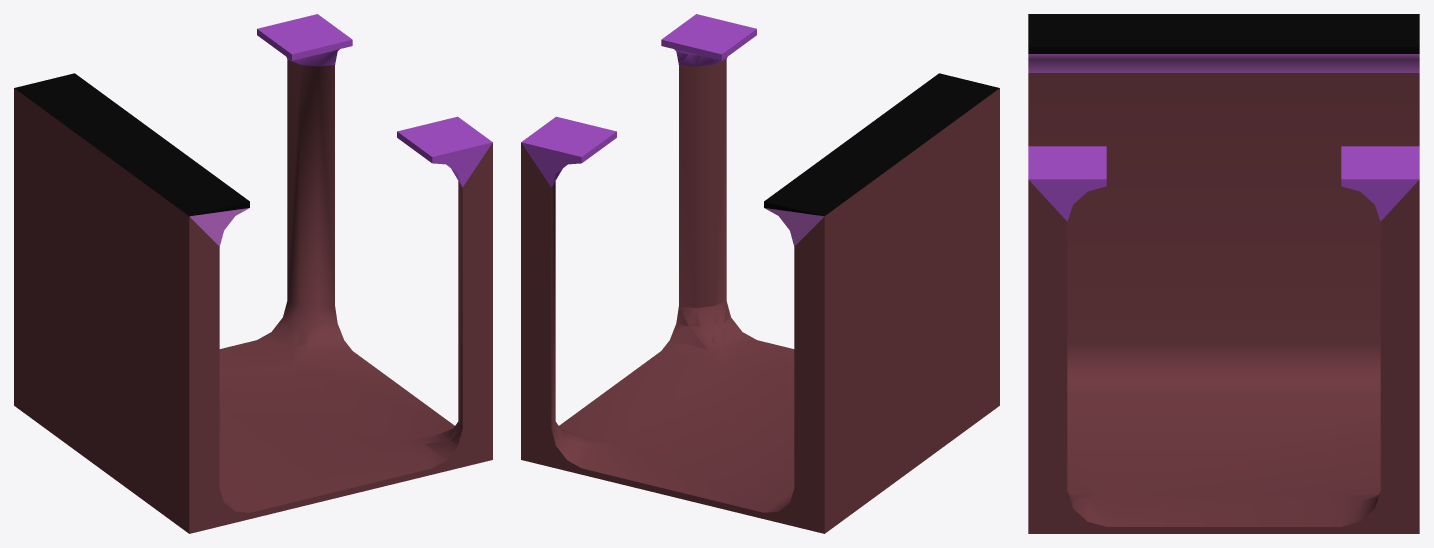
File: Tileset_21.fbx
The picture shows the model from 3 angles, left to right: view 1: azimuth 30°, elevation 25°; view 2: azimuth 150°, elevation 25°; view 3: azimuth 270°, elevation 25°; orthographic projection. The views are drawn at different scales.
Parts seen in each view (by area): view 1: Tileset_21; view 2: Tileset_21; view 3: Tileset_21.
Part boxes in pixels (bbox=[...]): Tileset_21: bbox=[14, 14, 492, 533]; Tileset_21: bbox=[521, 14, 999, 533]; Tileset_21: bbox=[1028, 14, 1419, 533].
Size of the model in its own units: 100 by 100 by 100.
